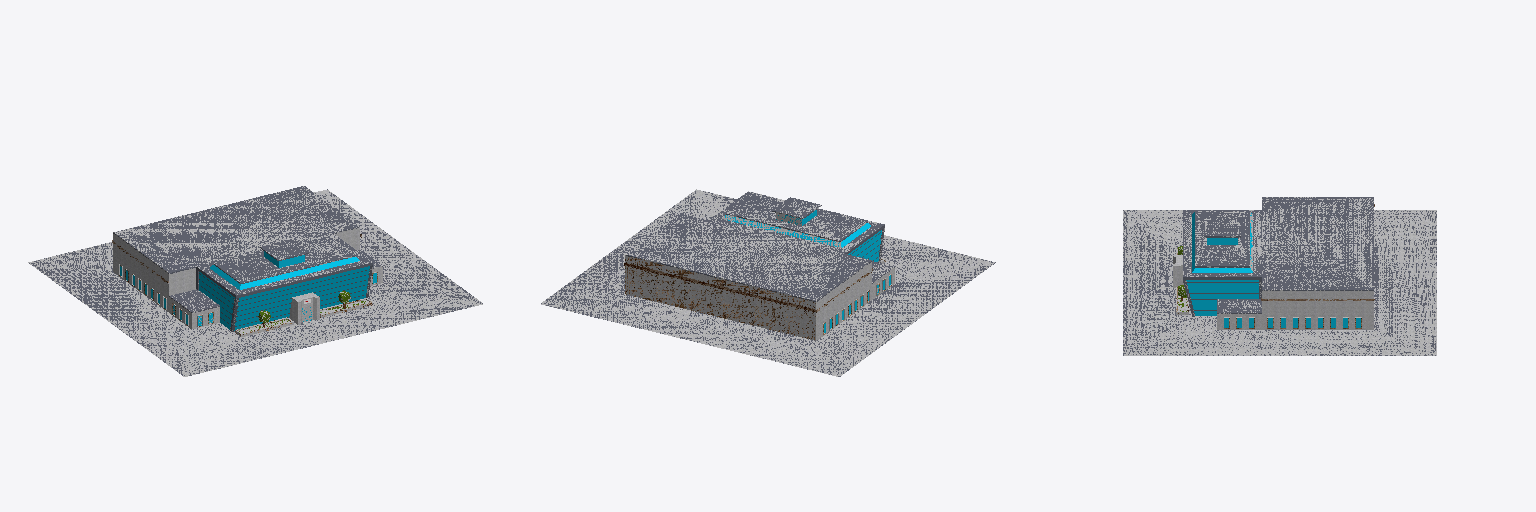
3 views of the same model, side by side, from view 1: azimuth 30°, elevation 25°; view 2: azimuth 150°, elevation 25°; view 3: azimuth 270°, elevation 25° (orthographic).
Parts seen in each view (by area): view 1: Mesh1 Model; view 2: Mesh1 Model; view 3: Mesh1 Model.
Part boxes in pixels (bbox=[...]): Mesh1 Model: bbox=[28, 186, 482, 376]; Mesh1 Model: bbox=[541, 189, 995, 376]; Mesh1 Model: bbox=[1123, 197, 1436, 355].
Bounding box in the file's own units: 55.15 × 9.6 × 50.
Materials: 10 (5 with a texture image).